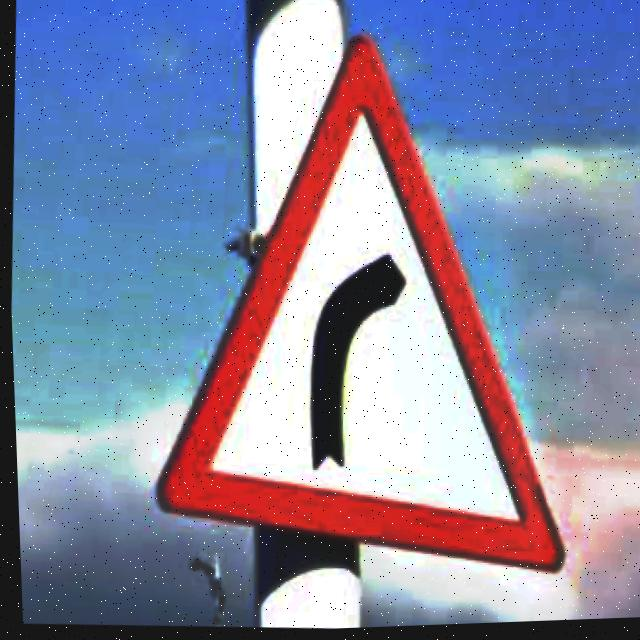rightbend: (155, 39, 559, 576)
